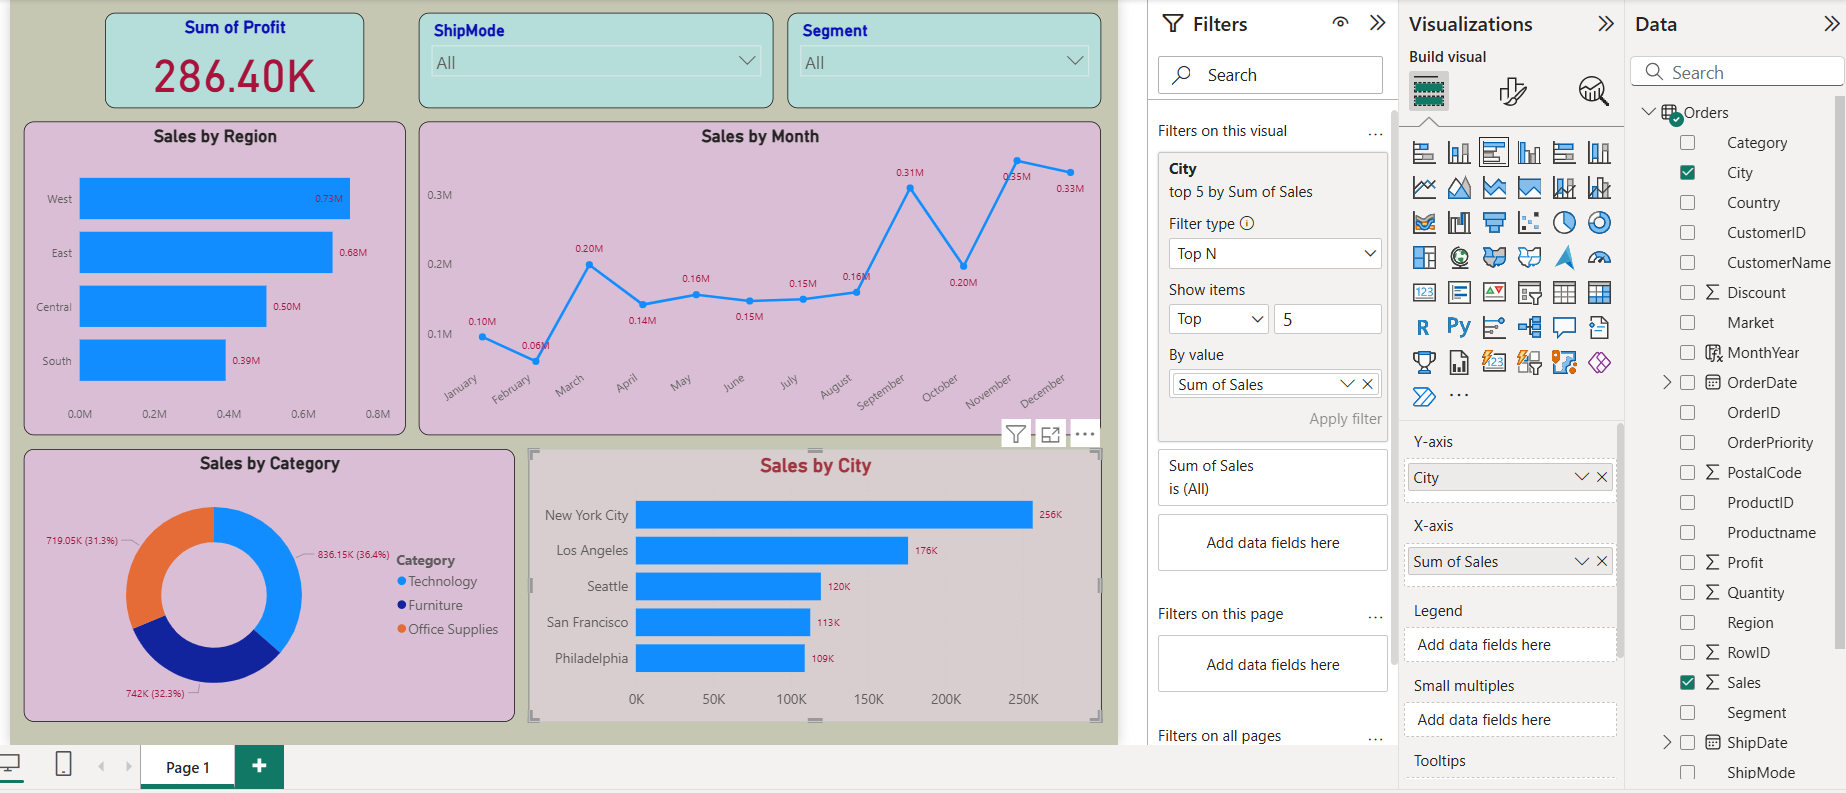

The page's visual inventory and layout, read from the dashboard file:
{"tool":"powerbi","page":{"name":"Page 1","canvas":[1300,875],"ordinal":0},"visuals":[{"type":"lineChart","title":"Sales by Month","fields":{"Y":["Sum(Orders.Sales)"],"Category":["Orders.OrderDate.Variation.Date Hierarchy.Month"]},"box":[480,144,800,368],"z":0},{"type":"barChart","title":"Sales by Region","fields":{"Y":["Sum(Orders.Sales)"],"Category":["Orders.Region"]},"box":[16,144,448,368],"z":1000},{"type":"donutChart","title":"Sales by Category","fields":{"Y":["Sum(Orders.Sales)"],"Category":["Orders.Category"]},"box":[16,528,576,320],"z":2000},{"type":"slicer","fields":{"Values":["Orders.Segment"]},"box":[912,16,368,112],"z":4000},{"type":"slicer","fields":{"Values":["Orders.ShipMode"]},"box":[480,16,416,112],"z":5000},{"type":"card","title":"Sum of Profit","fields":{"Values":["Sum(Orders.Profit)"]},"box":[112,16,304,112],"z":6000},{"type":"clusteredBarChart","title":"Sales by City","fields":{"Y":["Sum(Orders.Sales)"],"Category":["Orders.City"]},"box":[608,528,672,320],"z":6001}]}

Visuals, with their boxes in screenshot pixels (x1, y1, x2, y2):
"Sales by Month" lineChart: <bbox>409, 119, 1099, 437</bbox>
"Sales by Region" barChart: <bbox>9, 119, 395, 437</bbox>
"Sales by Category" donutChart: <bbox>9, 450, 506, 726</bbox>
slicer - Orders.Segment: <bbox>782, 9, 1099, 106</bbox>
slicer - Orders.ShipMode: <bbox>409, 9, 768, 106</bbox>
"Sum of Profit" card: <bbox>92, 9, 354, 106</bbox>
"Sales by City" clusteredBarChart: <bbox>519, 450, 1099, 726</bbox>
